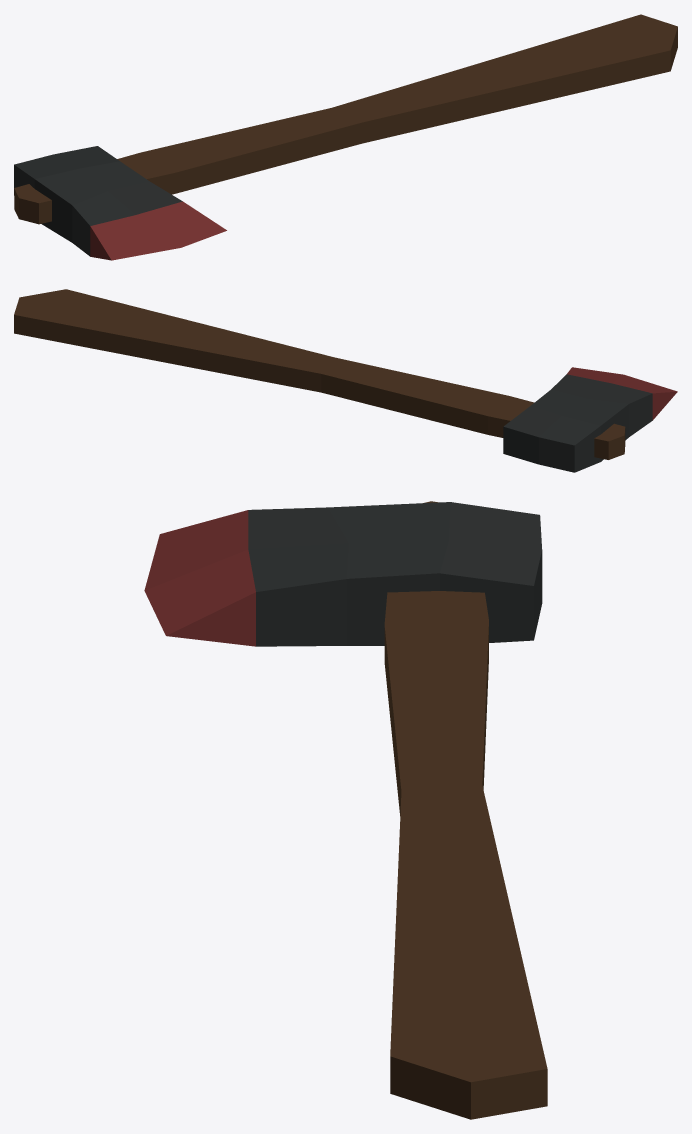
File: Axe_1_Dark_Brown.fbx
The picture shows the model from 3 angles, top to bottom: view 1: azimuth 30°, elevation 25°; view 2: azimuth 150°, elevation 25°; view 3: azimuth 270°, elevation 25°; orthographic projection. The views are drawn at different scales.
Parts seen in each view (by area): view 1: Axe_1_Dark_Brown; view 2: Axe_1_Dark_Brown; view 3: Axe_1_Dark_Brown.
Boxes of the visible parts, <box> form: Axe_1_Dark_Brown: <box>14,14,677,260</box>; Axe_1_Dark_Brown: <box>14,289,677,472</box>; Axe_1_Dark_Brown: <box>144,501,547,1119</box>.
Size of the model in its own units: 137 by 7.99 by 40.18.
